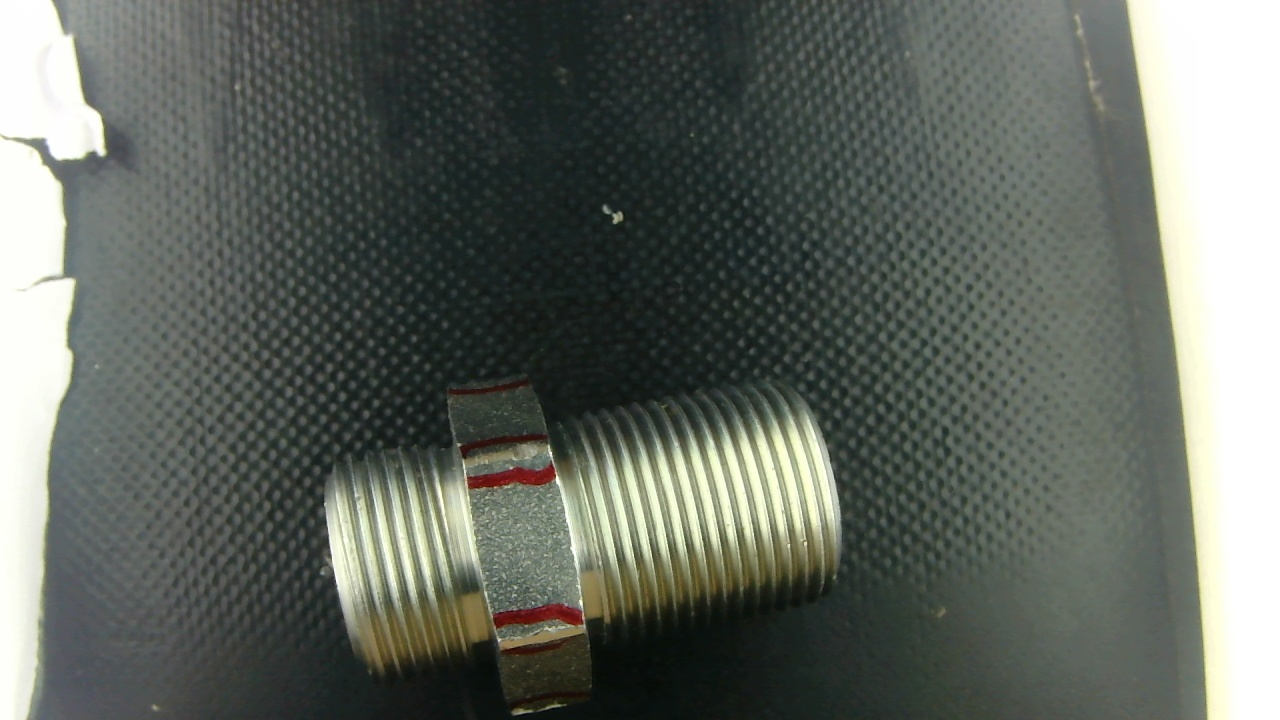Hex_damage: (461, 437, 551, 471), (463, 437, 552, 470)
